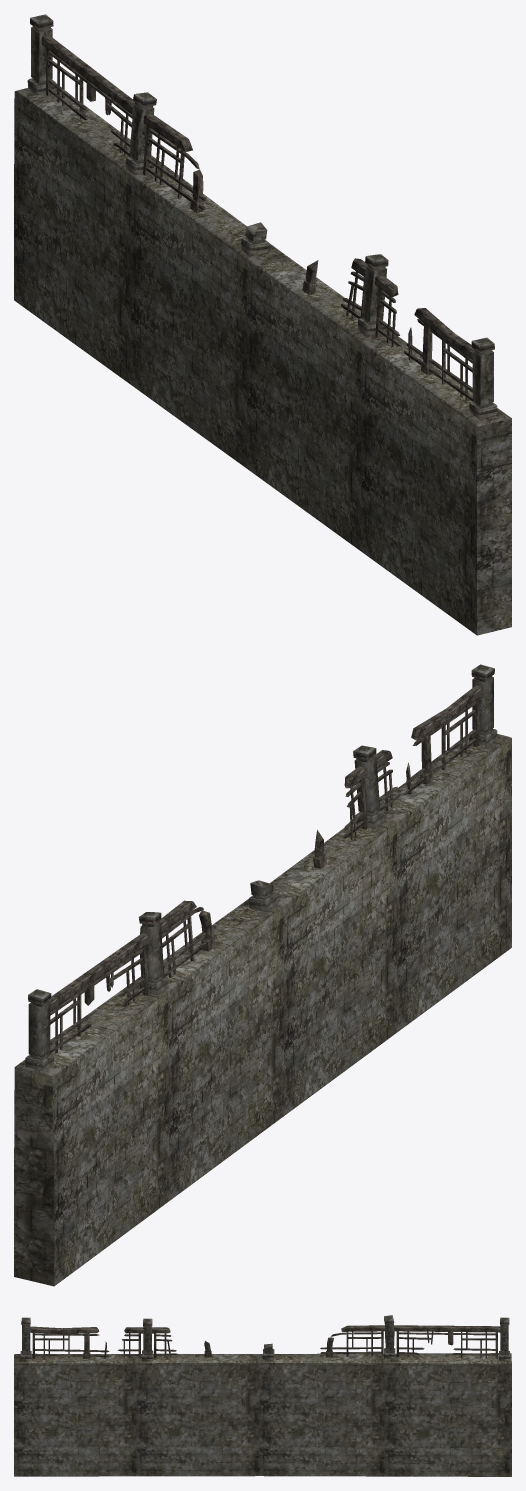
The model's file is TW2_9_TARRACE_02_16-transformed.glb.
3 renders of one model, top to bottom at view 1: azimuth 30°, elevation 25°; view 2: azimuth 150°, elevation 25°; view 3: azimuth 270°, elevation 25°, orthographic. The views are drawn at different scales.
Visible parts, largest first — view 1: default; view 2: default; view 3: default.
Boxes of the visible parts, x1,y1,x2,y2 form: default: [14, 14, 511, 635]; default: [14, 664, 511, 1286]; default: [14, 1315, 511, 1476].
Bounding box in the file's own units: 0.8045 × 5.5 × 16.09.
3 materials, 3 textured.
